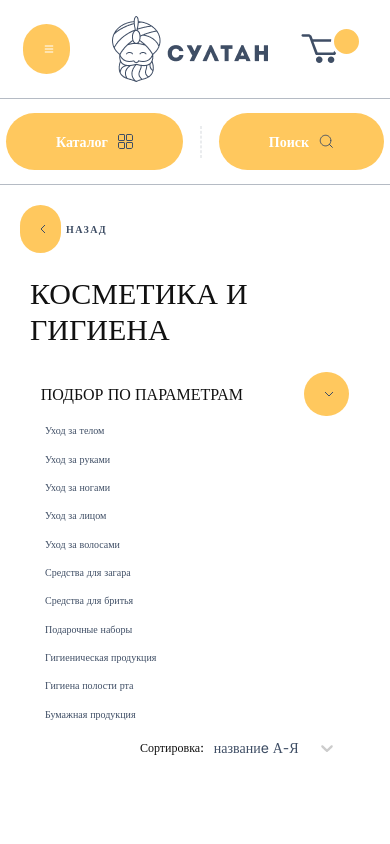
ROUTE TEST › navigation to the basket page
Step 1. Click the element with test id "link-to-basket" → (331, 49), box [300,26,362,72]
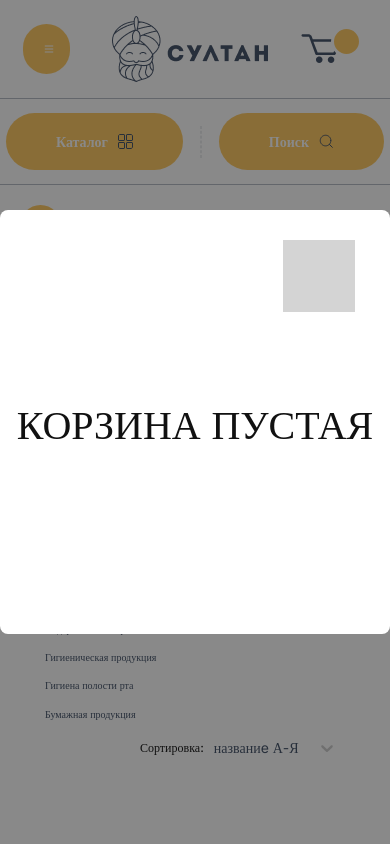
expect the element with test id "basket-empty" is shown: met
